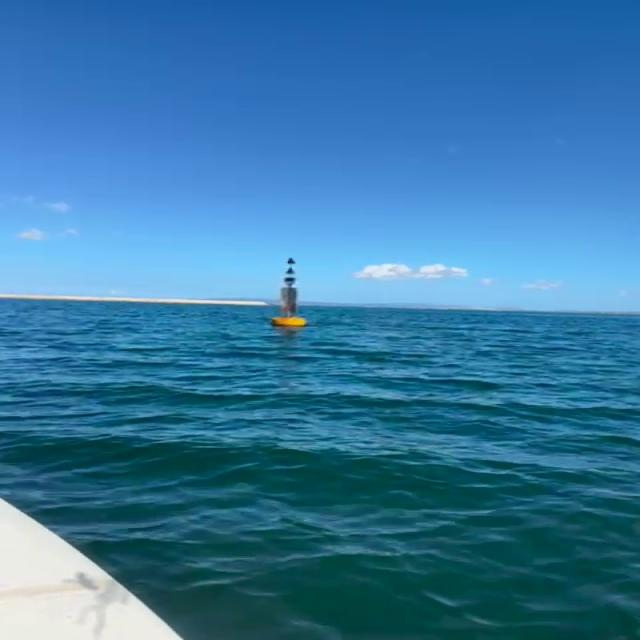marque: (274, 254, 308, 331)
